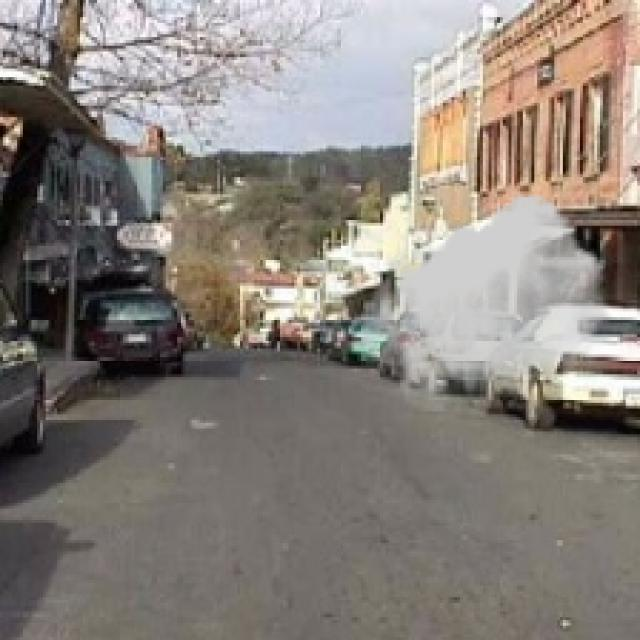Smoke: (361, 195, 608, 412)
